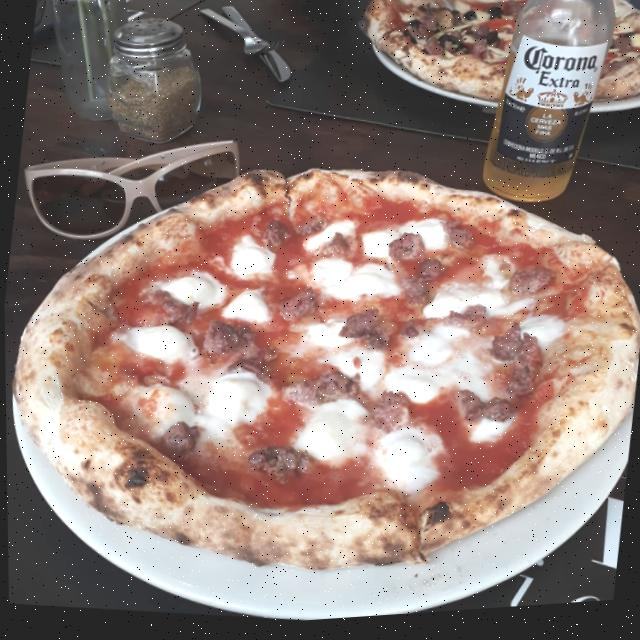pizza: (2, 120, 640, 624)
